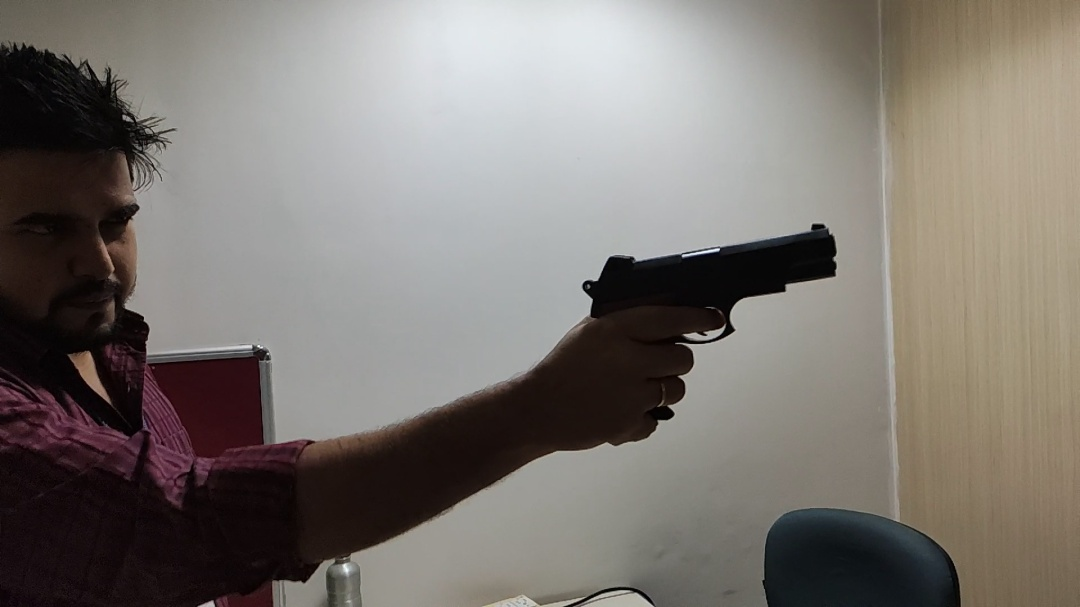gun: (579, 221, 840, 423)
